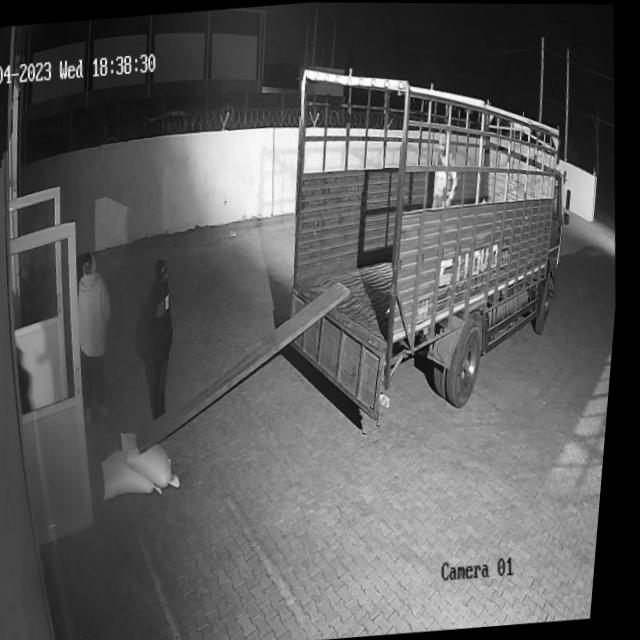sack: (122, 423, 193, 492), (104, 444, 174, 501)
